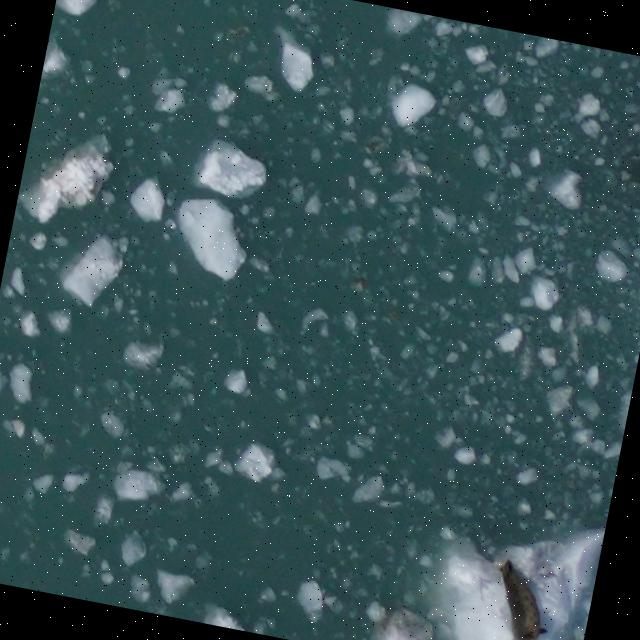seal: (480, 553, 566, 640)
